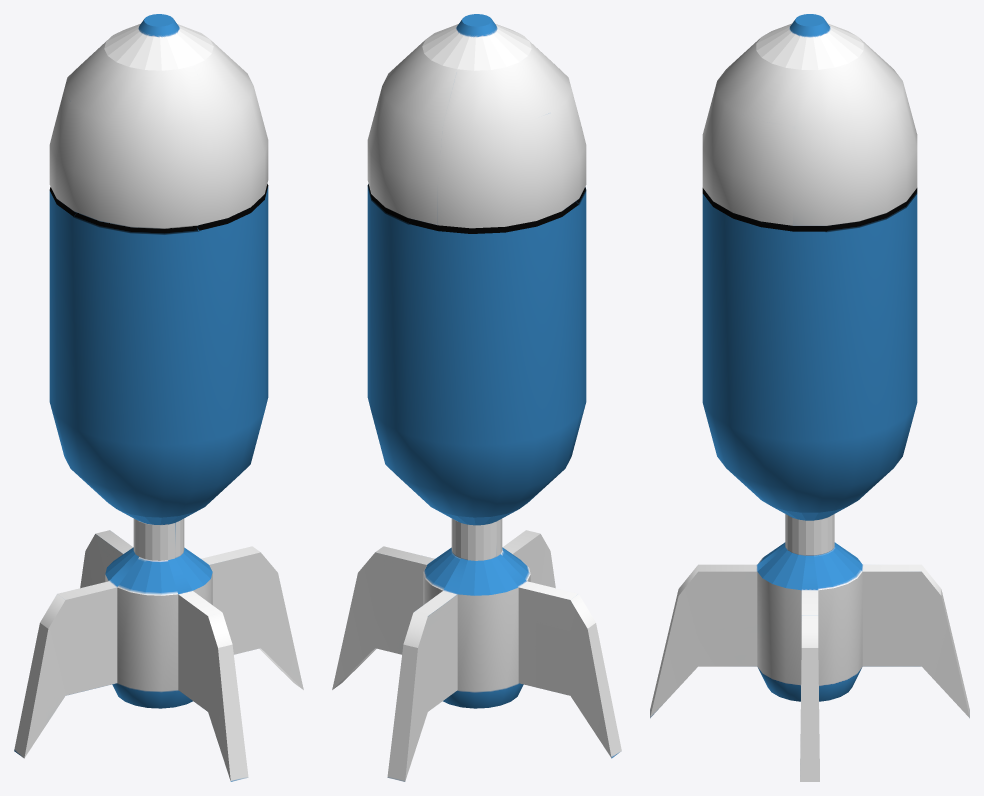
The model's file is Missil3.fbx.
3 views of the same model, side by side, from view 1: azimuth 30°, elevation 25°; view 2: azimuth 150°, elevation 25°; view 3: azimuth 270°, elevation 25° (orthographic).
Visible parts, largest first — view 1: pCylinder1; view 2: pCylinder1; view 3: pCylinder1.
Part boxes in pixels (left/top/right/bottom): pCylinder1: left=14, top=14, right=303, bottom=781; pCylinder1: left=332, top=14, right=621, bottom=781; pCylinder1: left=650, top=14, right=969, bottom=781.
Bounding box in the file's own units: 0.8753 × 2.1 × 0.8753.
